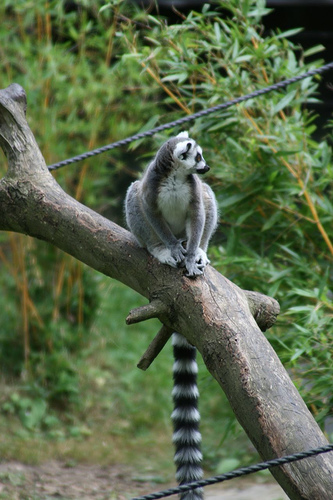cat: (123, 126, 219, 498)
